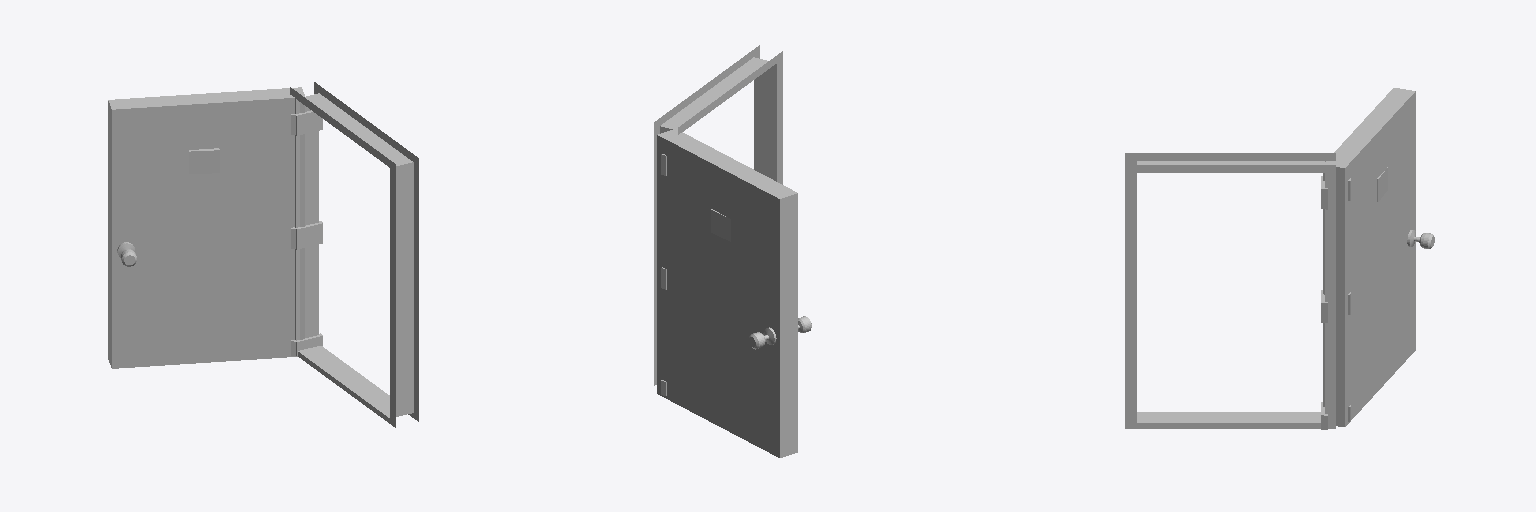
Rendered from Door_7_Open31.obj.
The picture shows the model from 3 angles: view 1: azimuth 30°, elevation 25°; view 2: azimuth 150°, elevation 25°; view 3: azimuth 270°, elevation 25°; orthographic projection.
Parts seen in each view (by area): view 1: Door.003, Frame_Door.006; view 2: Door.003, Frame_Door.006; view 3: Door.003, Frame_Door.006.
Boxes of the visible parts, x1,y1,x2,y2 form: Door.003: [108, 87, 304, 368]; Frame_Door.006: [290, 82, 418, 427]; Door.003: [657, 129, 811, 457]; Frame_Door.006: [654, 45, 782, 385]; Door.003: [1322, 88, 1434, 426]; Frame_Door.006: [1125, 153, 1335, 429].
Size of the model in its own units: 0.8197 by 1.17 by 1.23.